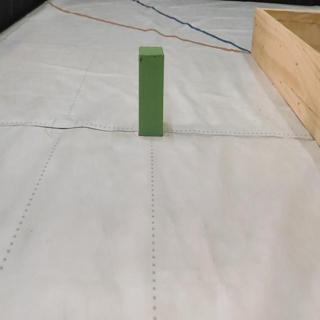greenbox: (137, 45, 165, 138)
